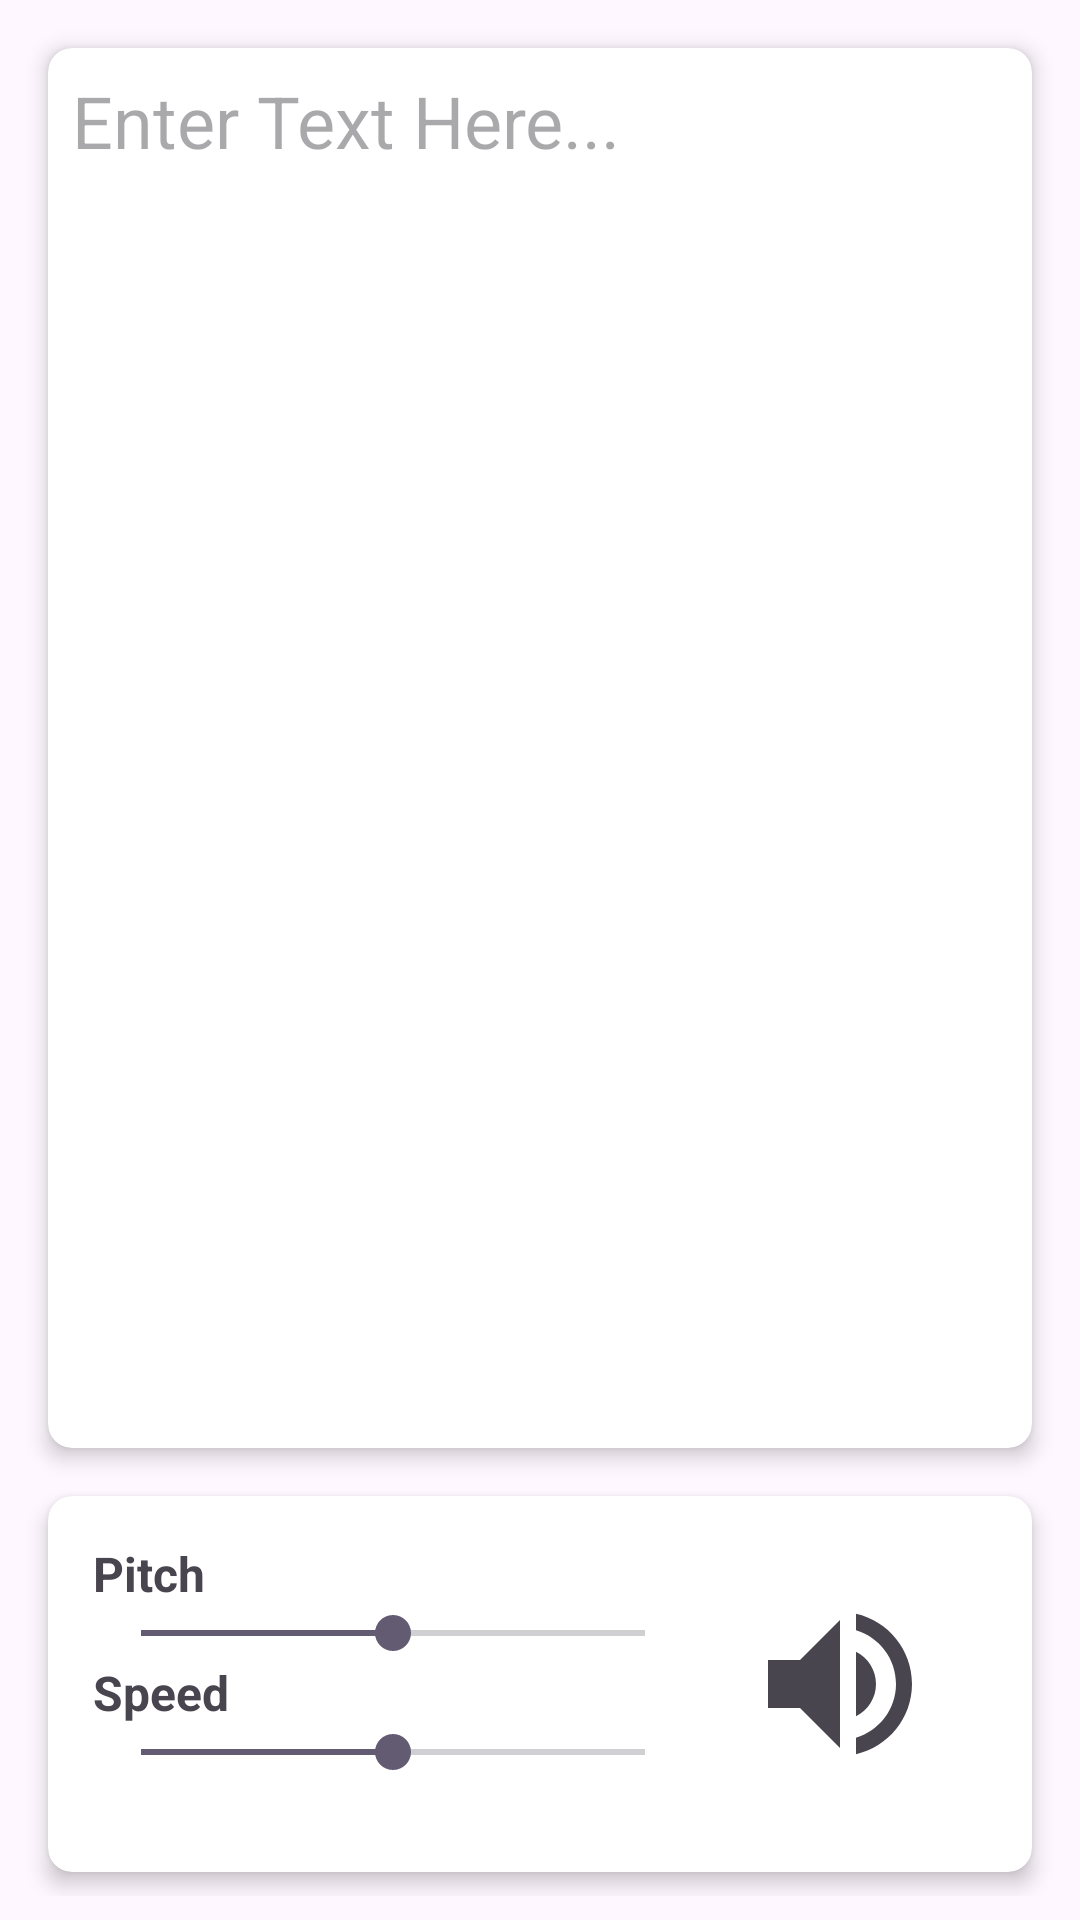

Named icons in this screenshot (1080 × 1920) and their centers, (x,y):
volume up: (840,1684)
